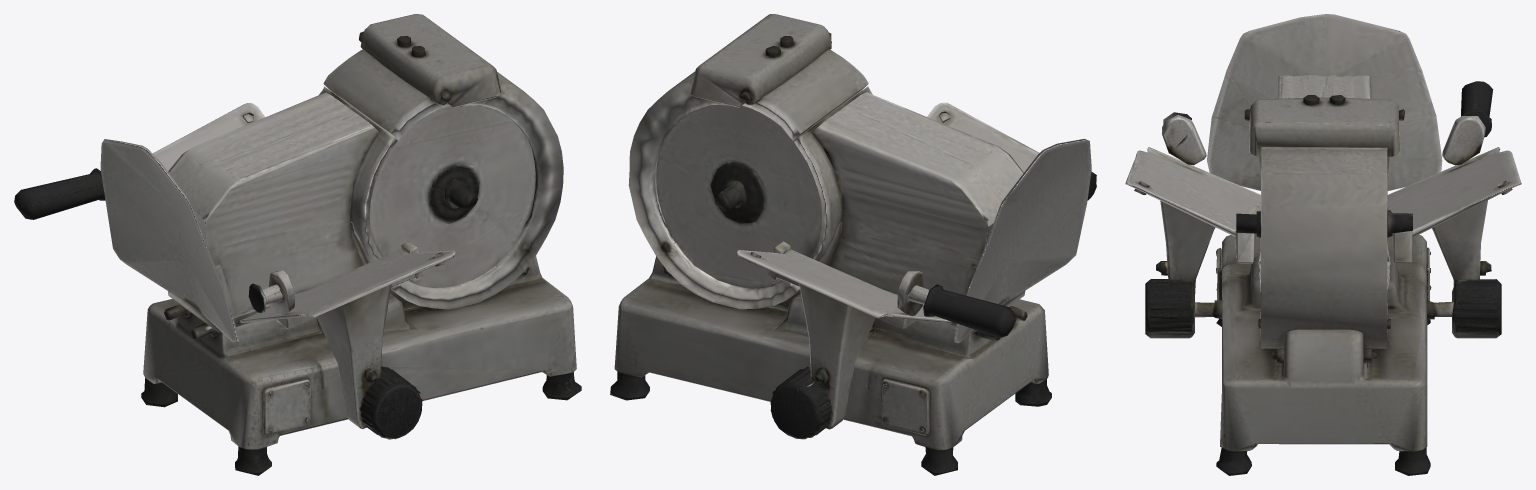
Rendered from p7-meat-slicer-t25.glb.
3 views of the same model, side by side, from view 1: azimuth 30°, elevation 25°; view 2: azimuth 150°, elevation 25°; view 3: azimuth 270°, elevation 25° (orthographic). The views are drawn at different scales.
Parts seen in each view (by area): view 1: p7-meat-slicer-t25; view 2: p7-meat-slicer-t25; view 3: p7-meat-slicer-t25.
Boxes of the visible parts, box(x1,y1,x2,y2) form: p7-meat-slicer-t25: box(14, 14, 581, 475); p7-meat-slicer-t25: box(610, 14, 1096, 475); p7-meat-slicer-t25: box(1125, 14, 1521, 475).
Bounding box in the file's own units: 0.6 × 0.45 × 0.5.
Materials: 1 (1 with a texture image).
